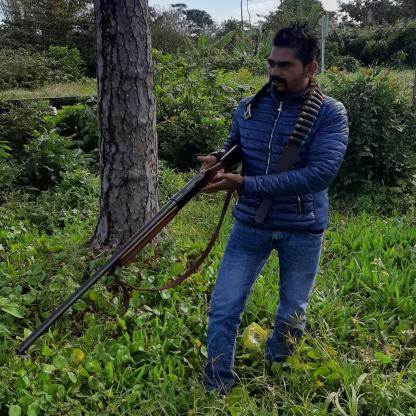rifle: (13, 142, 246, 358)
